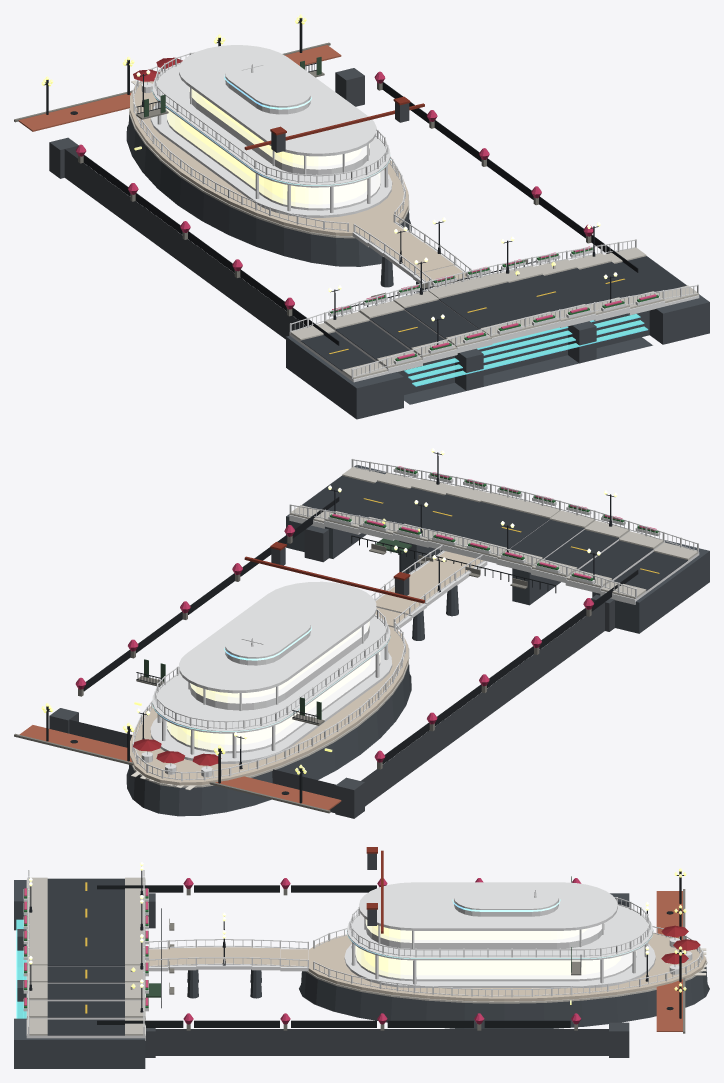
Rendered from lm_06_thuy_ta_cau_ong_dao.glb.
3 renders of one model, top to bottom at view 1: azimuth 30°, elevation 25°; view 2: azimuth 150°, elevation 25°; view 3: azimuth 270°, elevation 25°, orthographic. The views are drawn at different scales.
Parts seen in each view (by area): view 1: ThuyTa_White_Yacht_Structure, Foundation_Skirt, CauOngDao_Roadway_Asphalt, Phase2_Foundation_Skirt_Minus3p5m, CauOngDao_Sidewalks, ThuyTa_Island_Promenade, ThuyTa_Curved_Glass_Windows, Phase2_WroughtIron_Balconies_Railings_Manholes, CauOngDao_White_Structure, OngDao_Spillway_Cascade, ThuyTa_Interior_Warm_Glow, ThuyTa_Approach_Deck (+13 smaller); view 2: ThuyTa_White_Yacht_Structure, Foundation_Skirt, CauOngDao_Roadway_Asphalt, Phase2_Foundation_Skirt_Minus3p5m, CauOngDao_Sidewalks, ThuyTa_Island_Promenade, Phase2_WroughtIron_Balconies_Railings_Manholes, ThuyTa_Curved_Glass_Windows, CauOngDao_White_Structure, Phase2_Interlocking_Brick_Sidewalk, ThuyTa_Approach_Deck, Phase2_Granite_Curb_And_Entry_Steps (+14 smaller); view 3: ThuyTa_White_Yacht_Structure, Foundation_Skirt, Phase2_Foundation_Skirt_Minus3p5m, CauOngDao_Roadway_Asphalt, ThuyTa_Curved_Glass_Windows, ThuyTa_Island_Promenade, CauOngDao_Sidewalks, Phase2_WroughtIron_Balconies_Railings_Manholes, ThuyTa_Interior_Warm_Glow, ThuyTa_Approach_Deck, Phase2_Interlocking_Brick_Sidewalk, CauOngDao_White_Structure (+15 smaller).
Boxes of the visible parts, x1,y1,x2,y2 form: ThuyTa_White_Yacht_Structure: (141, 45, 392, 217); Foundation_Skirt: (126, 115, 709, 419); CauOngDao_Roadway_Asphalt: (301, 256, 686, 370); Phase2_Foundation_Skirt_Minus3p5m: (49, 68, 409, 339); CauOngDao_Sidewalks: (290, 247, 698, 379); ThuyTa_Island_Promenade: (130, 71, 408, 235); ThuyTa_Curved_Glass_Windows: (167, 87, 380, 208); Phase2_WroughtIron_Balconies_Railings_Manholes: (44, 18, 638, 345); CauOngDao_White_Structure: (289, 249, 699, 382); OngDao_Spillway_Cascade: (404, 314, 648, 386); ThuyTa_Interior_Warm_Glow: (179, 97, 366, 204); ThuyTa_Approach_Deck: (356, 222, 470, 287); ThuyTa_White_Yacht_Structure: (141, 581, 392, 777); Foundation_Skirt: (126, 465, 709, 816); CauOngDao_Roadway_Asphalt: (302, 476, 687, 590); Phase2_Foundation_Skirt_Minus3p5m: (49, 525, 614, 818); CauOngDao_Sidewalks: (289, 467, 697, 598); ThuyTa_Island_Promenade: (130, 626, 408, 785); Phase2_WroughtIron_Balconies_Railings_Manholes: (46, 497, 638, 803); ThuyTa_Curved_Glass_Windows: (167, 621, 380, 751); CauOngDao_White_Structure: (289, 468, 699, 604); Phase2_Interlocking_Brick_Sidewalk: (19, 725, 341, 810); ThuyTa_Approach_Deck: (375, 551, 483, 626); Phase2_Granite_Curb_And_Entry_Steps: (14, 536, 591, 813); ThuyTa_White_Yacht_Structure: (344, 882, 692, 987); Foundation_Skirt: (14, 880, 709, 1068); Phase2_Foundation_Skirt_Minus3p5m: (145, 853, 629, 1057); CauOngDao_Roadway_Asphalt: (47, 878, 124, 1035); ThuyTa_Curved_Glass_Windows: (355, 919, 636, 979); ThuyTa_Island_Promenade: (308, 932, 706, 1001); CauOngDao_Sidewalks: (27, 877, 145, 1035); Phase2_WroughtIron_Balconies_Railings_Manholes: (97, 871, 684, 1027); ThuyTa_Interior_Warm_Glow: (364, 925, 620, 974); ThuyTa_Approach_Deck: (146, 947, 308, 966); Phase2_Interlocking_Brick_Sidewalk: (656, 891, 682, 1031); CauOngDao_White_Structure: (23, 879, 148, 1040).
Size of the model in its own units: 45 by 14.61 by 82.75.
